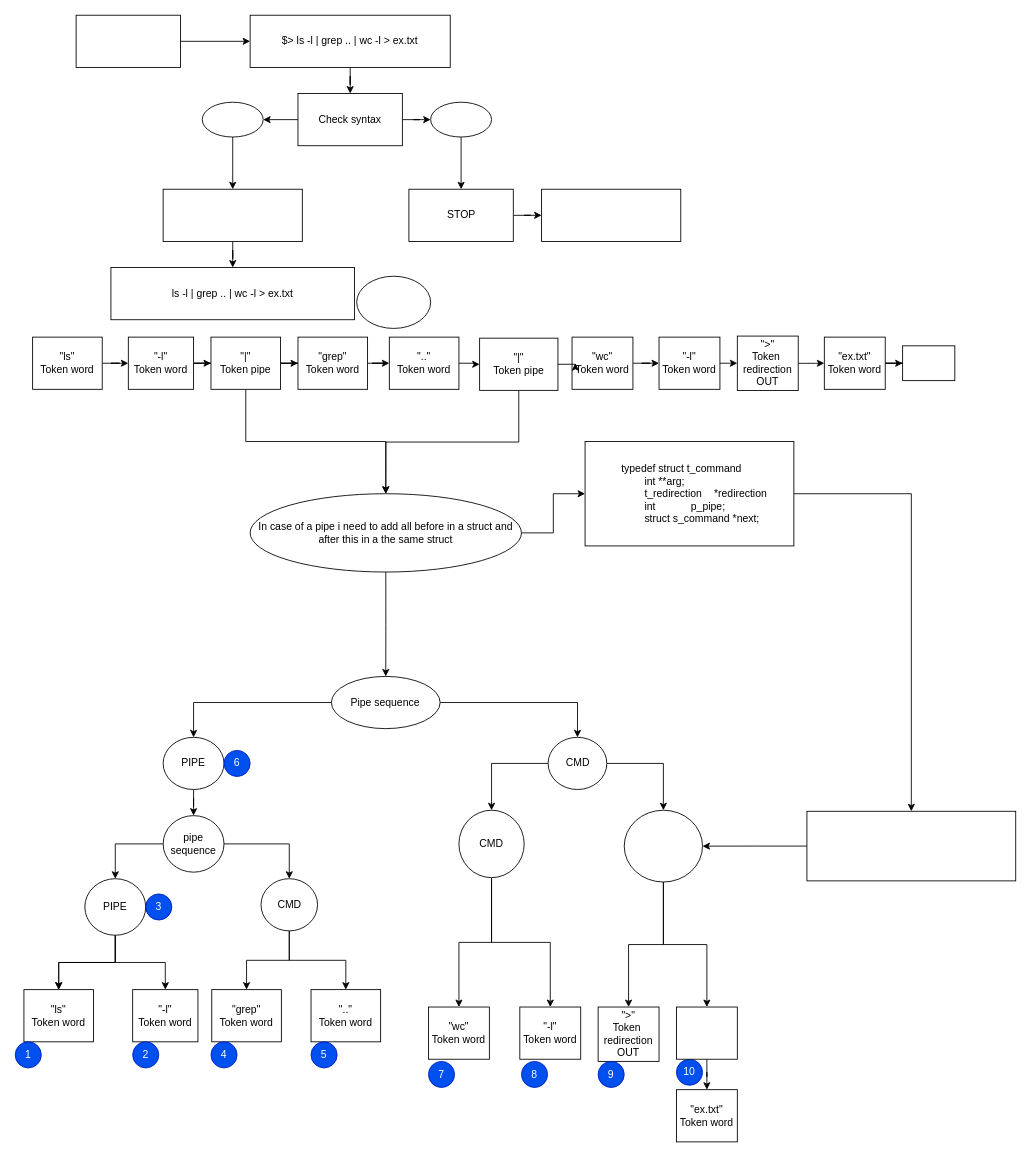
This 1031x1157 diagram has some shape labels left out. The centre of each missing label's shape, as x and y in pixels:
"chain list" goes at (x=393, y=301).
"END (But do not quit the minishell)" goes at (x=611, y=214).
"FALSE" goes at (x=461, y=119).
"FILE" goes at (x=706, y=1032).
"INPUT" goes at (x=128, y=40).
"NULL" goes at (x=928, y=363).
"Redirections" goes at (x=663, y=845).
"Start the placement in token" goes at (x=232, y=214).
"TRUE" goes at (x=232, y=119).
"typedef struct t_redirection int type; char *file; struct s_command *next;" goes at (x=911, y=845).
